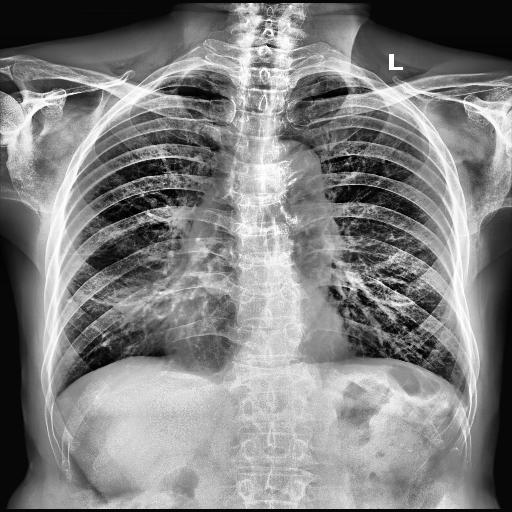0- Aortic enlargement: (188, 140, 320, 262), (266, 142, 326, 200), (259, 140, 323, 194)
13- Pulmonary fibrosis: (135, 259, 219, 317)
7- Lung Opacity: (98, 262, 234, 372), (135, 259, 219, 317), (134, 264, 219, 320)
